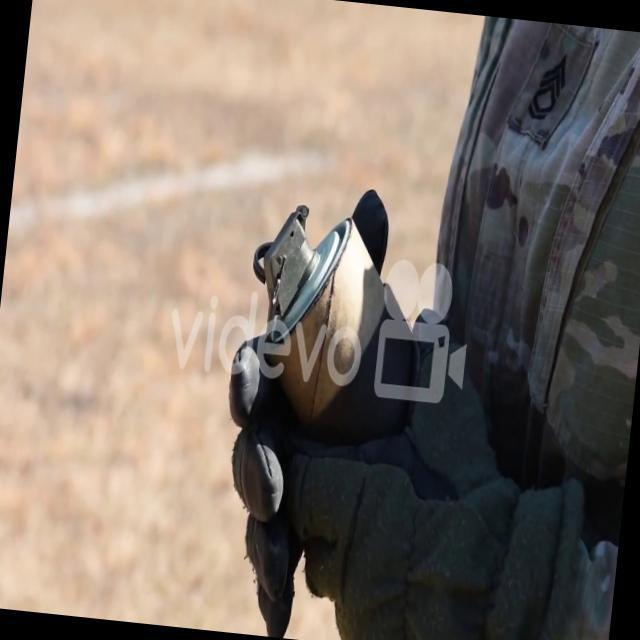grenade: (230, 192, 437, 462)
